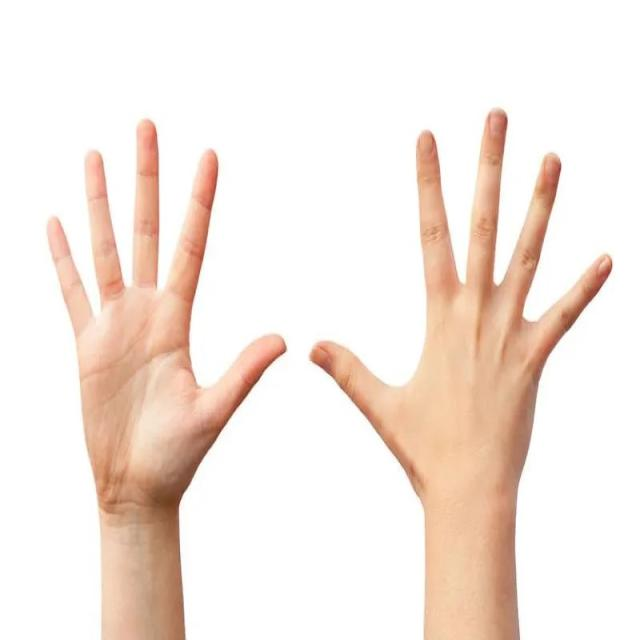Nail: (309, 346, 332, 371), (544, 154, 561, 184), (489, 109, 506, 138), (419, 131, 433, 156), (596, 258, 611, 280)
